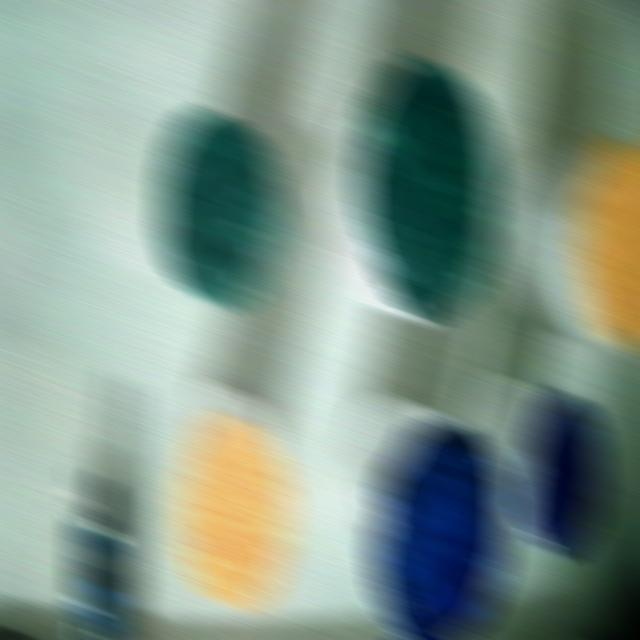blue: (370, 422, 509, 639), (520, 391, 603, 556)
green: (357, 55, 498, 320), (157, 110, 284, 307)
yellow: (173, 416, 292, 607), (574, 136, 639, 349)
